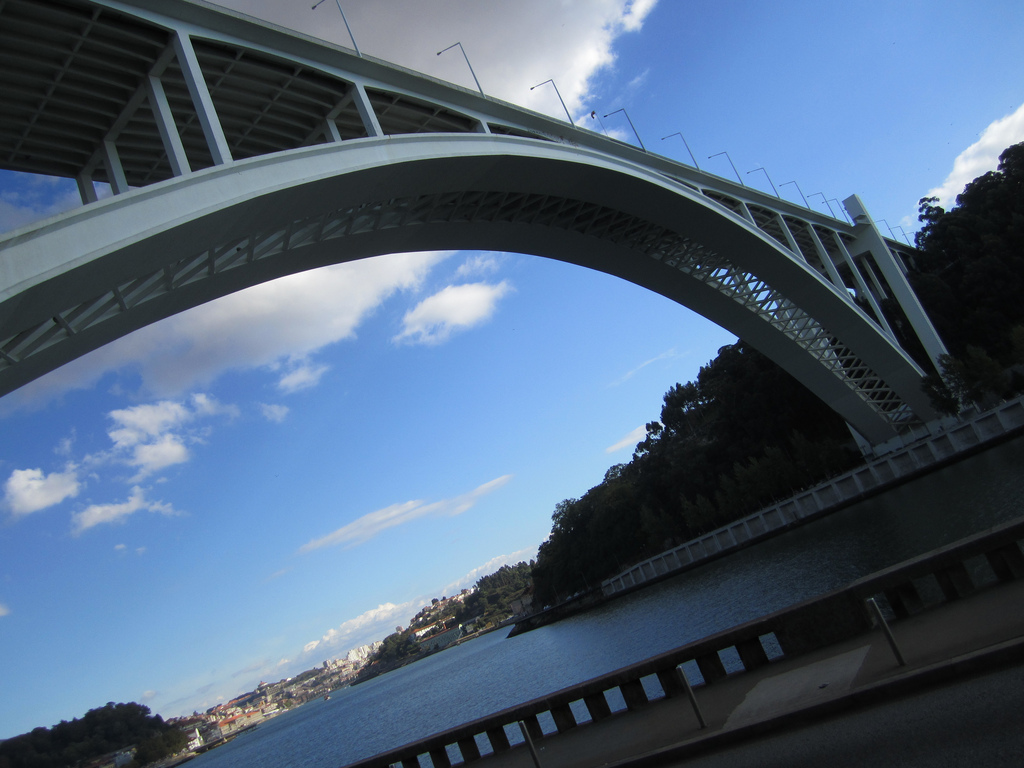arrabida: (0, 0, 1023, 468)
